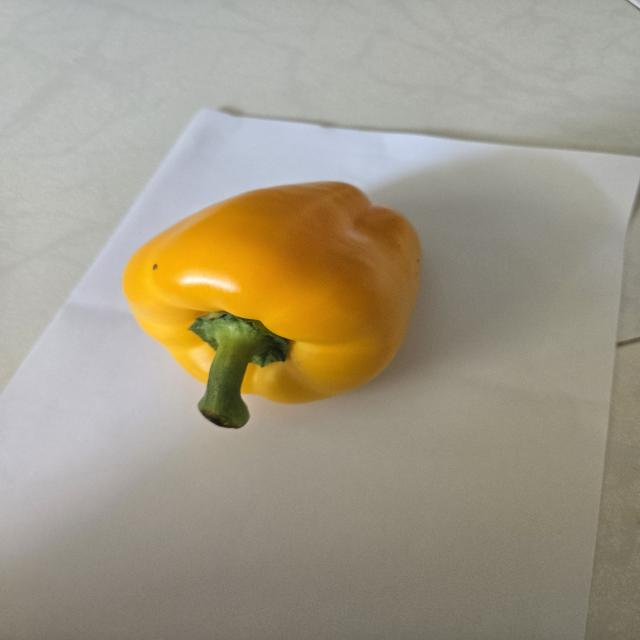bell-pepper: (113, 172, 436, 449)
